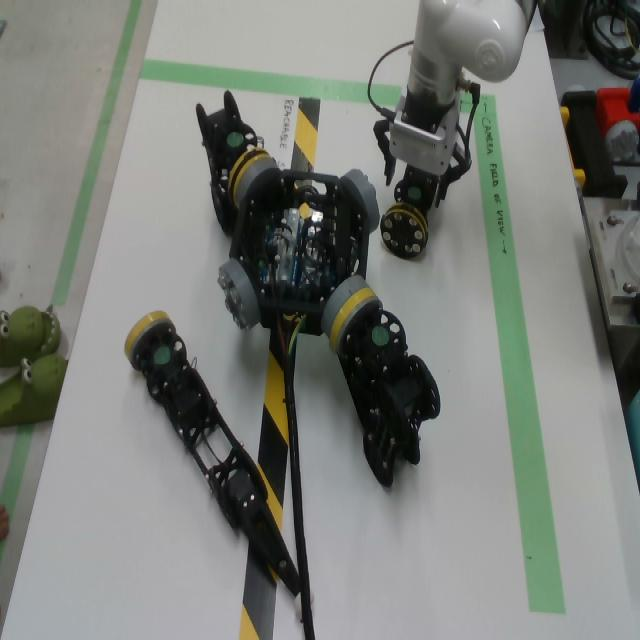body: (229, 171, 368, 336)
body_connector: (218, 259, 261, 331), (321, 275, 369, 337), (340, 169, 380, 233), (235, 157, 279, 208)
gripper: (373, 92, 472, 209)
leg: (124, 311, 301, 615), (330, 288, 441, 488), (196, 89, 272, 239), (380, 164, 439, 259)
leg_connector: (330, 288, 380, 352), (124, 311, 174, 371), (380, 203, 429, 260), (228, 148, 270, 204)
leg_marker: (372, 327, 389, 344), (154, 348, 170, 365), (227, 132, 244, 148), (408, 187, 421, 199)
